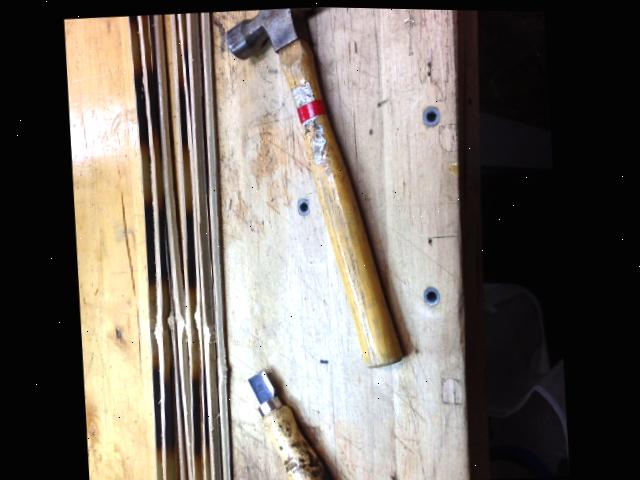hammer: (209, 4, 421, 383)
